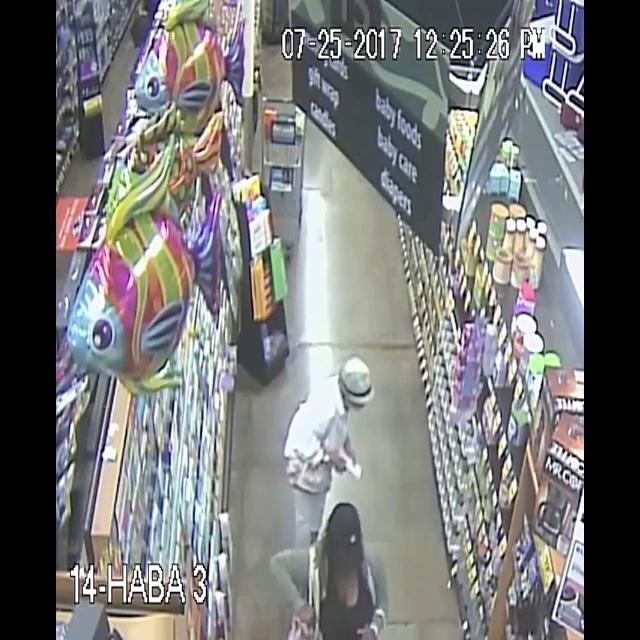normal: (250, 320, 398, 490), (265, 475, 394, 640)
